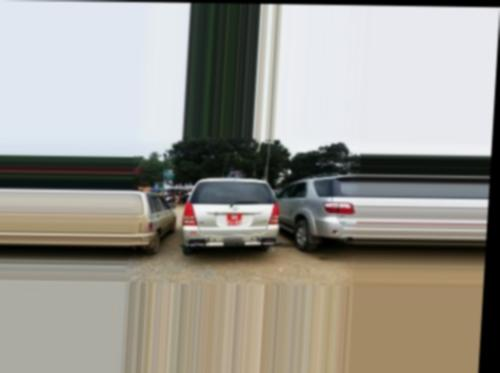License_Plate: (223, 212, 243, 228)
